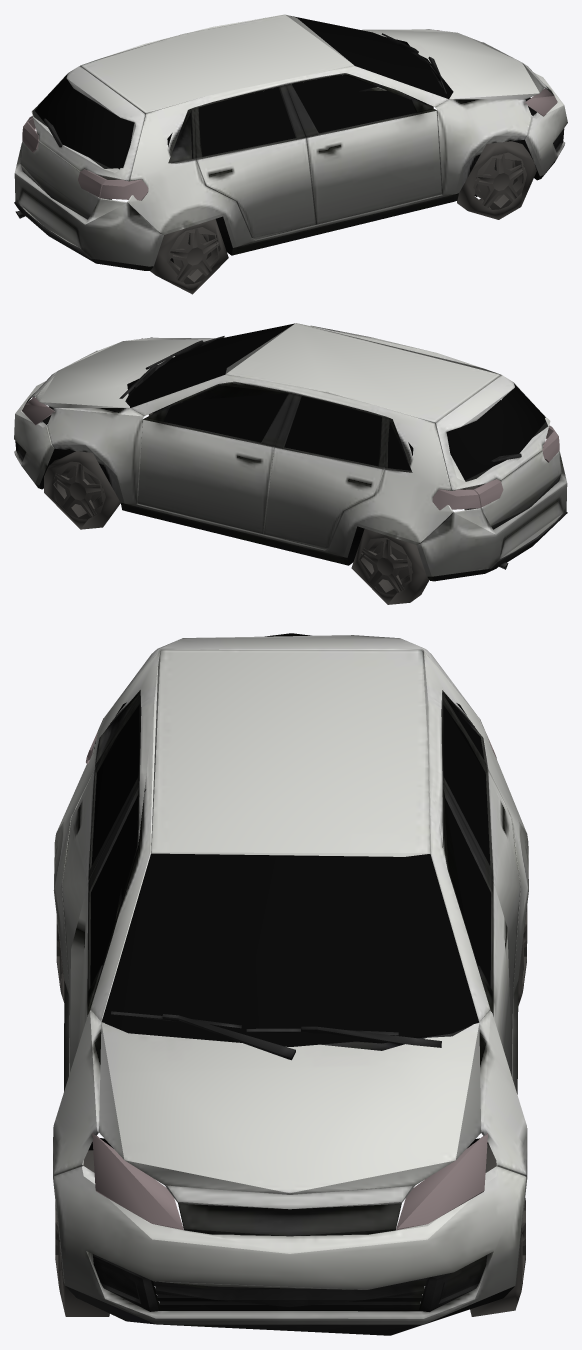
Rendered from pc-hatchback-white.lod1.glb.
The picture shows the model from 3 angles, top to bottom: view 1: azimuth 30°, elevation 25°; view 2: azimuth 150°, elevation 25°; view 3: azimuth 270°, elevation 25°; orthographic projection. The views are drawn at different scales.
Parts seen in each view (by area): view 1: Hatchback Body_Body_0, Hatchback Body_Glass_0; view 2: Hatchback Body_Body_0, Hatchback Body_Glass_0; view 3: Hatchback Body_Body_0, Hatchback Body_Glass_0.
Boxes of the visible parts, <box> form: Hatchback Body_Body_0: <box>14,14,567,270</box>; Hatchback Body_Glass_0: <box>22,16,557,294</box>; Hatchback Body_Body_0: <box>14,323,567,581</box>; Hatchback Body_Glass_0: <box>22,323,559,604</box>; Hatchback Body_Body_0: <box>53,635,528,1335</box>; Hatchback Body_Glass_0: <box>55,633,527,1316</box>.
Size of the model in its own units: 3.92 by 1.31 by 1.62.
2 materials, 1 textured.
